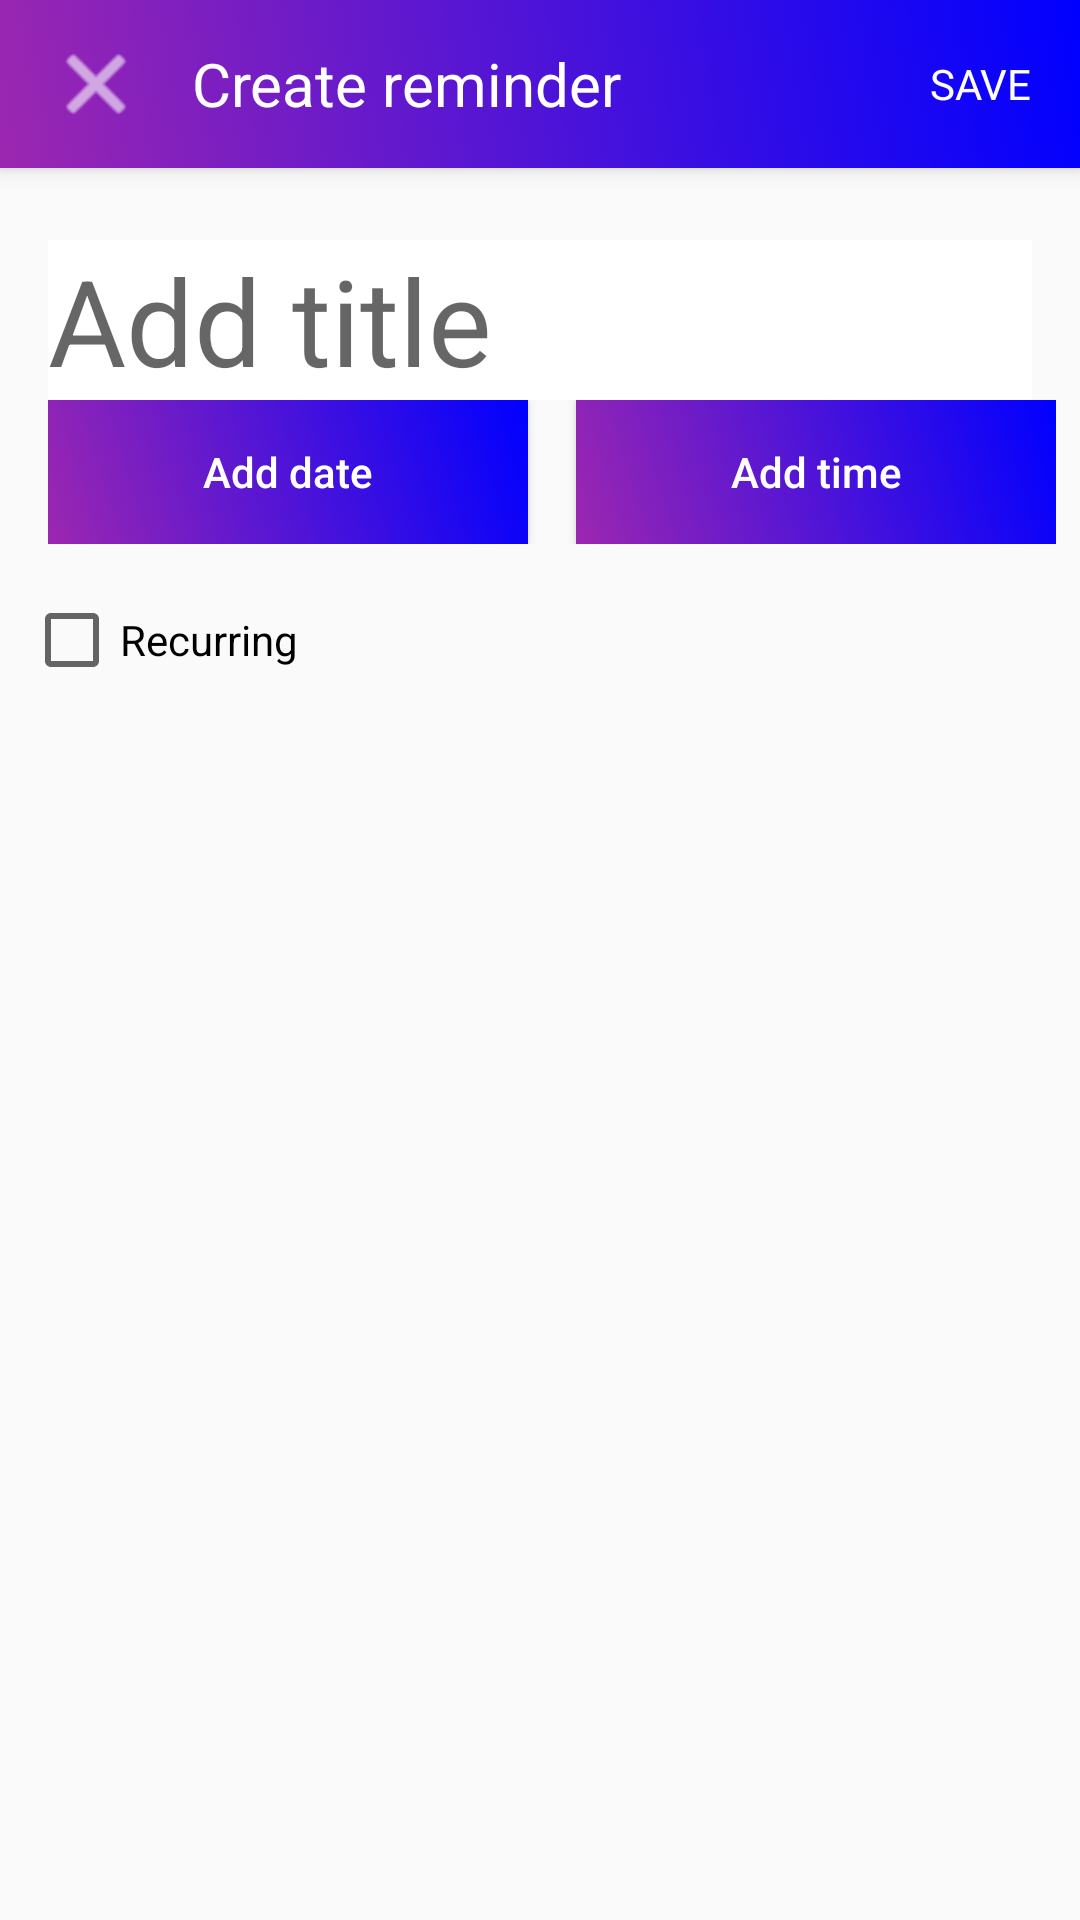

Locate icon controls on the screen. Image size 1080 x 1920, boxes as (x1, y1, x2, y2).
close clear cancel: (66, 54, 126, 114)
